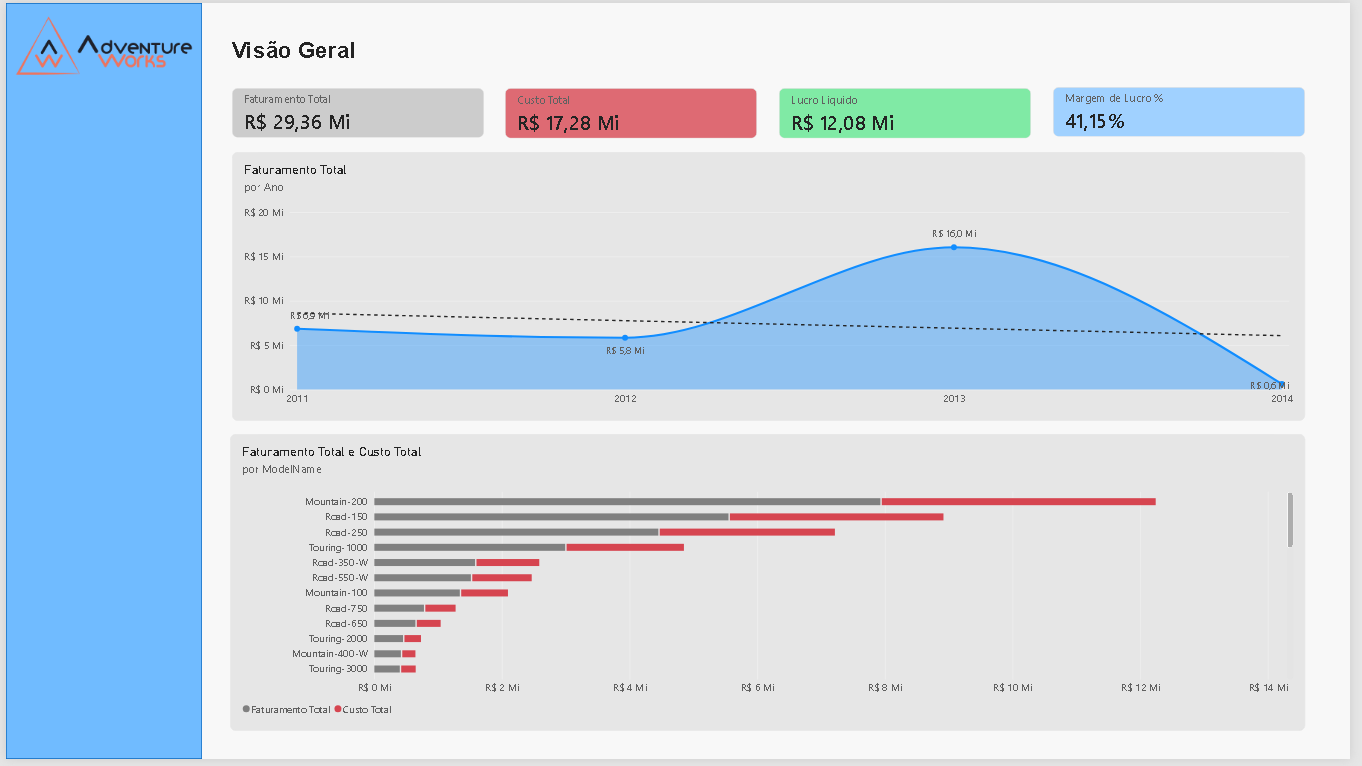

Layout of this report page (visuals, bound fields, positions):
{"tool":"powerbi","page":{"name":"Visão Geral","canvas":[1920,1080],"ordinal":0},"visuals":[{"type":"shape","box":[0,0,280,1080],"z":0},{"type":"image","box":[0,0,280,122],"z":1000},{"type":"textbox","box":[323.3,48.3,360,40],"z":2000},{"type":"cardVisual","fields":{"Data":["FactInternetSales.Faturamento Total"]},"box":[323.3,121.7,360,71.7],"z":3000},{"type":"cardVisual","fields":{"Data":["FactInternetSales.Custo Total"]},"box":[712.5,121.2,360,72],"z":4000},{"type":"cardVisual","fields":{"Data":["FactInternetSales.Lucro Liquido"]},"box":[1103.8,121.2,360,72],"z":5000},{"type":"cardVisual","fields":{"Data":["FactInternetSales.Margem de Lucro %"]},"box":[1495,120,360,71.7],"z":6000},{"type":"lineChart","title":"Evolução do Faturamento","fields":{"Category":["DimDate.FullDateAlternateKey.Variation.Hierarquia de datas.Ano","DimDate.FullDateAlternateKey.Variation.Hierarquia de datas.Trimestre","DimDate.FullDateAlternateKey.Variation.Hierarquia de datas.Mês","DimDate.FullDateAlternateKey.Variation.Hierarquia de datas.Dia"],"Y":["FactInternetSales.Faturamento Total"]},"box":[322.9,212.9,1532.9,384.3],"z":7000},{"type":"barChart","title":"Faturamento e Custo por Modelo","fields":{"Category":["DimProduct.ModelName"],"Y":["FactInternetSales.Faturamento Total","FactInternetSales.Custo Total"]},"box":[323.3,615,1531.7,425],"z":8000},{"type":"actionButton","box":[41.7,250.8,196.7,40],"z":9000},{"type":"actionButton","box":[41.7,308.3,196.7,40],"z":10000},{"type":"shape","box":[25,251.5,12,40],"z":11000},{"type":"actionButton","box":[41.7,361.2,196.7,40],"z":11001}]}

Visuals, with their boxes in screenshot pixels (x1, y1, x2, y2), scaled from the page's 1920x1080 canvas onto the 1362x766 screenshot:
shape: [x1=0, y1=0, x2=199, y2=765]
image: [x1=0, y1=0, x2=199, y2=87]
textbox: [x1=229, y1=34, x2=485, y2=63]
cardVisual - FactInternetSales.Faturamento Total: [x1=229, y1=86, x2=485, y2=137]
cardVisual - FactInternetSales.Custo Total: [x1=505, y1=86, x2=761, y2=137]
cardVisual - FactInternetSales.Lucro Liquido: [x1=783, y1=86, x2=1038, y2=137]
cardVisual - FactInternetSales.Margem de Lucro %: [x1=1061, y1=85, x2=1316, y2=136]
"Evolução do Faturamento" lineChart: [x1=229, y1=151, x2=1316, y2=424]
"Faturamento e Custo por Modelo" barChart: [x1=229, y1=436, x2=1316, y2=738]
actionButton: [x1=30, y1=178, x2=169, y2=206]
actionButton: [x1=30, y1=219, x2=169, y2=247]
shape: [x1=18, y1=178, x2=26, y2=207]
actionButton: [x1=30, y1=256, x2=169, y2=285]
